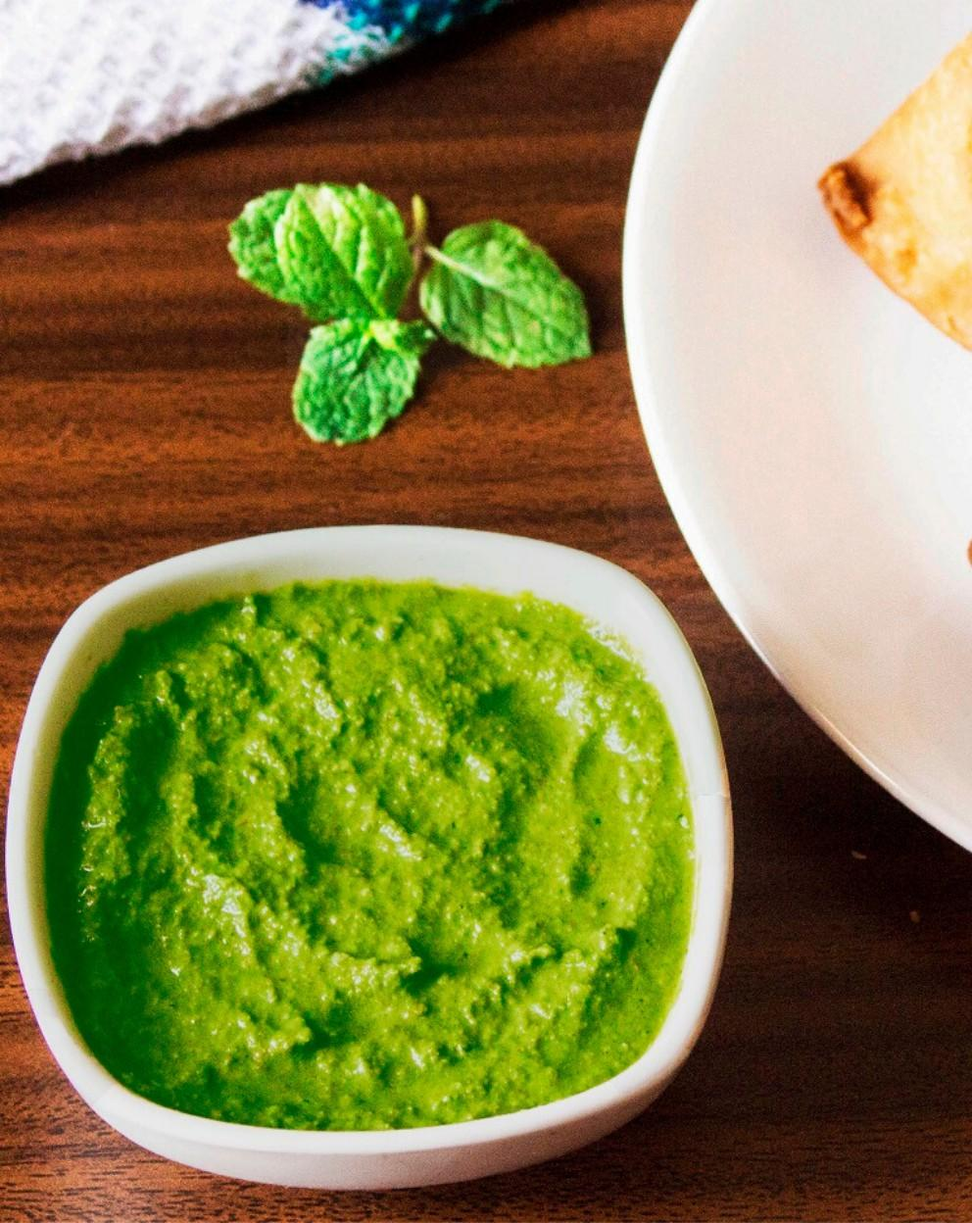GreenChutney: (44, 581, 694, 1127)
